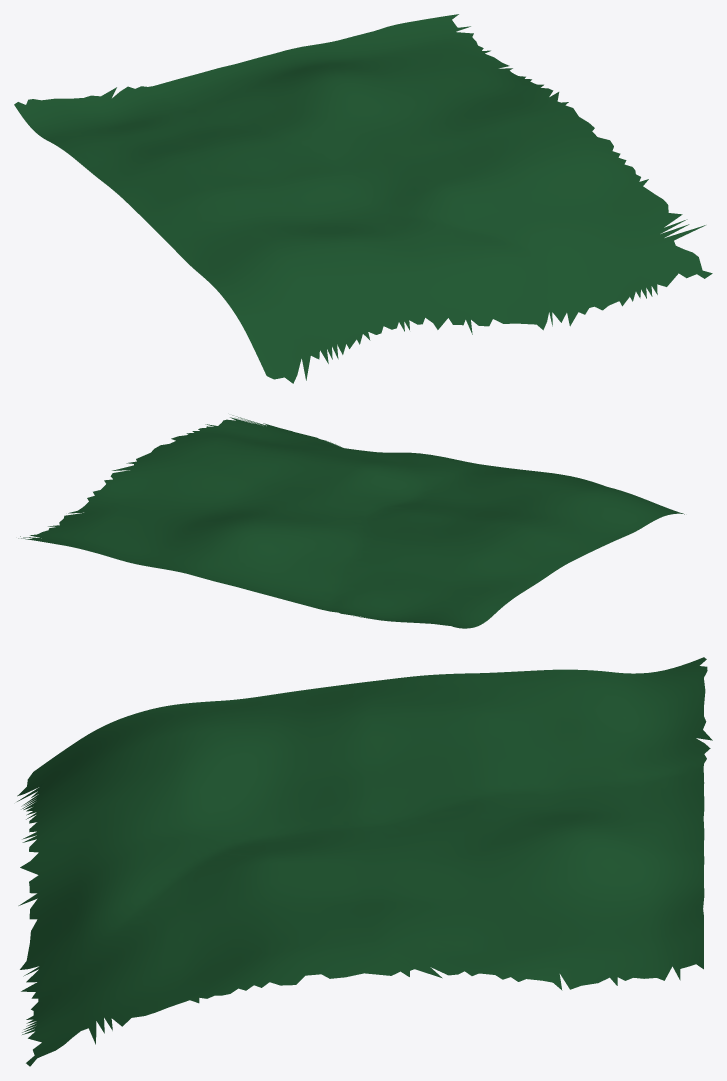
File: payo_land_xm4_y0.glb
The picture shows the model from 3 angles, top to bottom: view 1: azimuth 30°, elevation 25°; view 2: azimuth 150°, elevation 25°; view 3: azimuth 270°, elevation 25°; orthographic projection. The views are drawn at different scales.
Parts seen in each view (by area): view 1: payo_land_xm4_y0; view 2: payo_land_xm4_y0; view 3: payo_land_xm4_y0.
Boxes of the visible parts, x1,y1,x2,y2 form: payo_land_xm4_y0: (14,14,712,383); payo_land_xm4_y0: (18,415,684,628); payo_land_xm4_y0: (17,657,712,1066).
Bounding box in the file's own units: 271 × 59.72 × 266.
